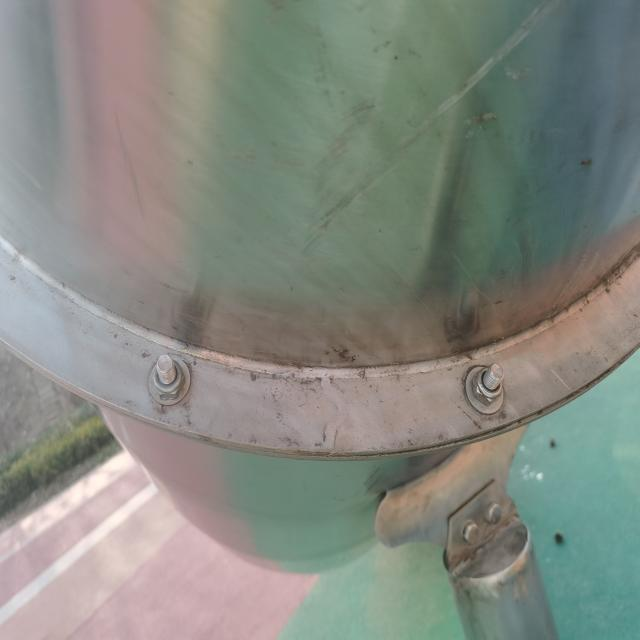blur bolt: (462, 522, 481, 547), (485, 500, 503, 526)
bolt nut: (151, 357, 187, 402), (471, 363, 504, 408)
